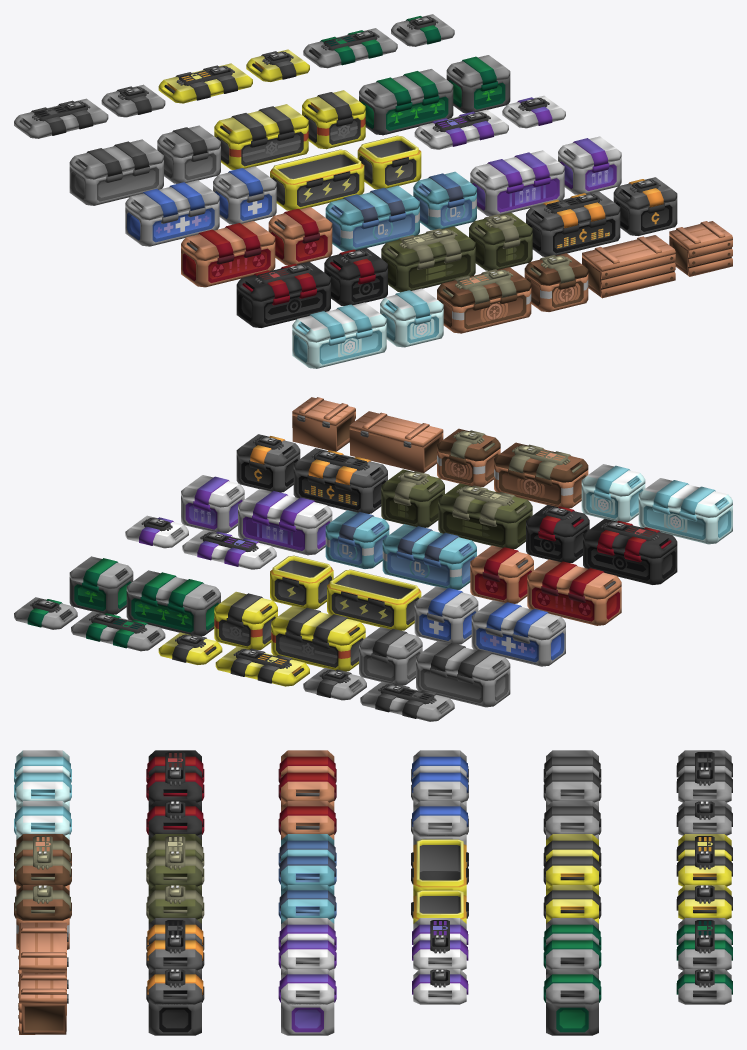
File: crates.fbx
3 views of the same model, one above another, from view 1: azimuth 30°, elevation 25°; view 2: azimuth 150°, elevation 25°; view 3: azimuth 270°, elevation 25° (orthographic). The views are drawn at different scales.
Parts seen in each view (by area): view 1: Engineering E Crate, Engineering E Crate Small, Freezer, Medical Crate, Radiation Crate, Security Crate, Crate, Plasma Crate, Wooden Crate, Personal Crate, Hydroponics Crate, Engineering Crate (+50 smaller); view 2: Engineering E Crate, Engineering E Crate Small, Medical Crate, Freezer, Radiation Crate, Security Crate, Crate, Oxygen Crate, Engineering Crate Lid Secure, Hydroponics Crate Lid Secure, Crate Lid Secure, Science Crate Lid Secure (+50 smaller); view 3: Engineering E Crate, Crate Lid Secure, Personal Crate Lid, Oxygen Crate Lid, Science Crate Lid, Weapons Crate Lid, Radiation Crate Lid, Security Crate Lid, Engineering Crate Lid Secure, Hydroponics Crate Lid Secure, Medical Crate Lid, Science Crate Lid Secure (+28 smaller).
Part boxes in pixels (x1=…): Engineering E Crate: x1=270, y1=149, x2=364, y2=210; Engineering E Crate Small: x1=357, y1=135, x2=421, y2=189; Freezer: x1=292, y1=323, x2=386, y2=368; Medical Crate: x1=125, y1=201, x2=219, y2=246; Radiation Crate: x1=181, y1=242, x2=275, y2=287; Security Crate: x1=236, y1=282, x2=330, y2=327; Crate: x1=69, y1=160, x2=163, y2=205; Plasma Crate: x1=437, y1=288, x2=531, y2=333; Wooden Crate: x1=582, y1=254, x2=675, y2=298; Personal Crate: x1=526, y1=212, x2=620, y2=256; Hydroponics Crate: x1=359, y1=89, x2=453, y2=135; Engineering Crate: x1=214, y1=125, x2=308, y2=169; Engineering E Crate: x1=327, y1=569, x2=421, y2=630; Engineering E Crate Small: x1=270, y1=555, x2=333, y2=609; Medical Crate: x1=471, y1=621, x2=565, y2=666; Freezer: x1=638, y1=498, x2=732, y2=544; Radiation Crate: x1=527, y1=580, x2=621, y2=625; Security Crate: x1=583, y1=539, x2=677, y2=584; Crate: x1=416, y1=662, x2=510, y2=707; Oxygen Crate: x1=382, y1=545, x2=476, y2=589; Engineering Crate Lid Secure: x1=215, y1=646, x2=309, y2=686; Hydroponics Crate Lid Secure: x1=71, y1=611, x2=165, y2=651; Crate Lid Secure: x1=360, y1=681, x2=454, y2=721; Science Crate Lid Secure: x1=182, y1=529, x2=276, y2=569; Engineering E Crate: x1=411, y1=839, x2=468, y2=895; Crate Lid Secure: x1=676, y1=750, x2=732, y2=802; Personal Crate Lid: x1=147, y1=918, x2=203, y2=970; Oxygen Crate Lid: x1=279, y1=834, x2=335, y2=886; Science Crate Lid: x1=279, y1=918, x2=335, y2=970; Weapons Crate Lid: x1=147, y1=834, x2=203, y2=886; Radiation Crate Lid: x1=279, y1=750, x2=335, y2=802; Security Crate Lid: x1=147, y1=750, x2=203, y2=802; Engineering Crate Lid Secure: x1=676, y1=834, x2=732, y2=886; Hydroponics Crate Lid Secure: x1=676, y1=918, x2=732, y2=970; Medical Crate Lid: x1=412, y1=750, x2=468, y2=802; Science Crate Lid Secure: x1=412, y1=918, x2=468, y2=970.
Size of the model in its own units: 8.79 by 0.8255 by 10.86.
